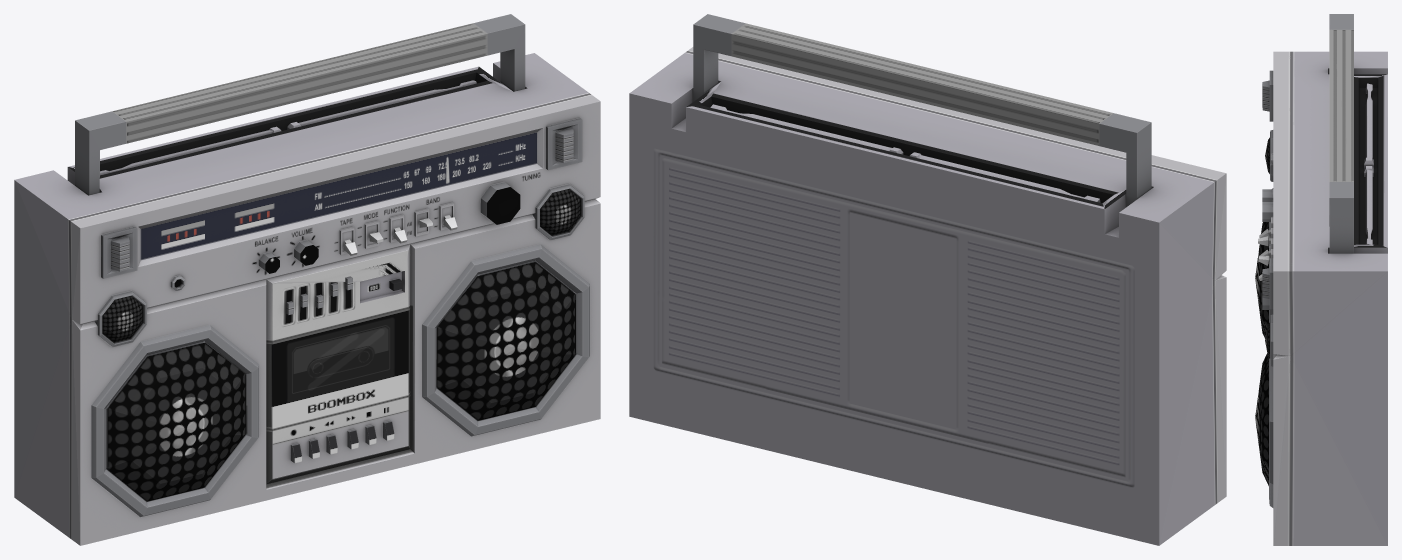
Rendered from BoomBox.glb.
3 views of the same model, side by side, from view 1: azimuth 30°, elevation 25°; view 2: azimuth 150°, elevation 25°; view 3: azimuth 270°, elevation 25° (orthographic). The views are drawn at different scales.
Visible parts, largest first — view 1: Boombox_mesh; view 2: Boombox_mesh; view 3: Boombox_mesh.
Part boxes in pixels (box(x1,y1,x2,y2)): Boombox_mesh: box(14, 14, 600, 545); Boombox_mesh: box(629, 14, 1226, 545); Boombox_mesh: box(1255, 14, 1387, 545).
Size of the model in its own units: 263 by 184 by 67.24.
1 material, 1 textured.
